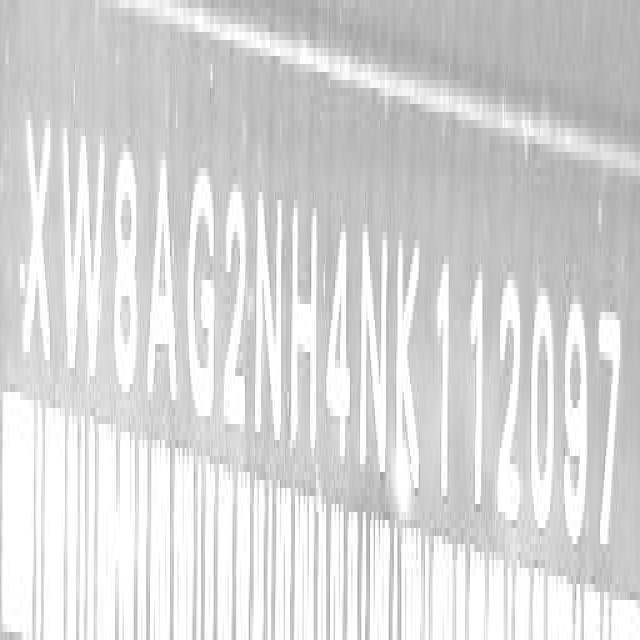0: (530, 280, 556, 539)
1: (466, 262, 485, 524), (436, 246, 454, 514)
2: (495, 270, 523, 539), (222, 176, 247, 446)
4: (328, 202, 352, 474)
7: (594, 287, 620, 566)
8: (112, 136, 141, 403)
9: (560, 296, 588, 552)
A: (147, 148, 178, 417)
G: (186, 160, 217, 415)
H: (290, 193, 318, 462)
K: (393, 228, 427, 507)
N: (253, 198, 285, 448), (362, 216, 390, 493)
W: (61, 109, 106, 391)
X: (21, 101, 53, 378)
